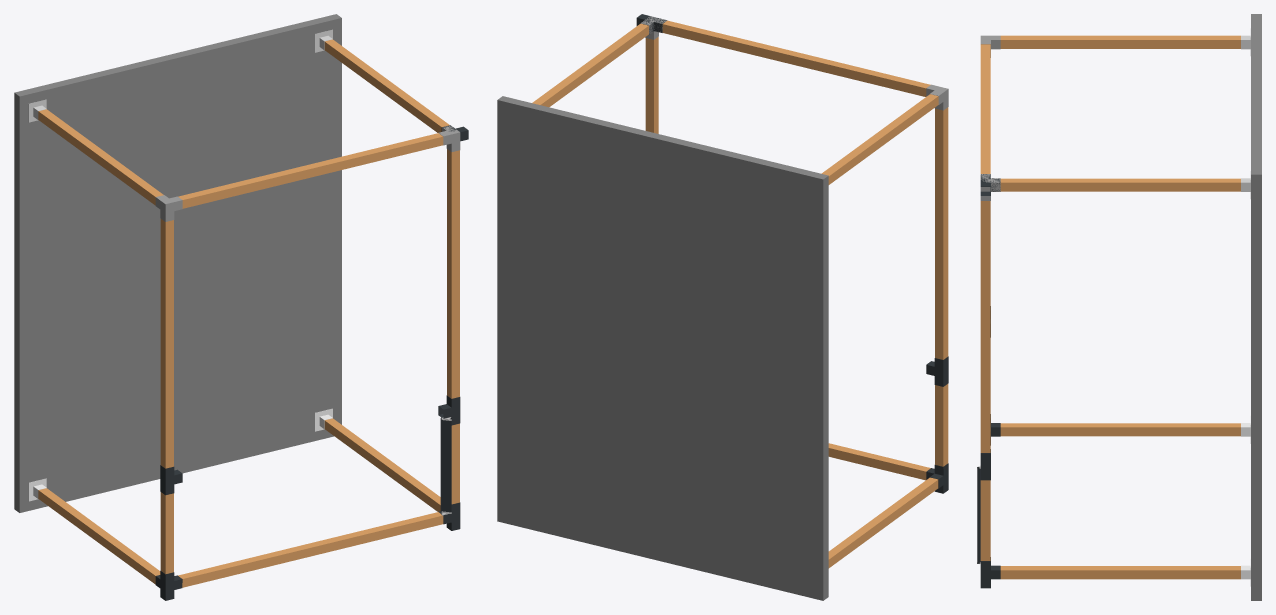
File: pergola_90_mm_v10a.gltf
3 views of the same model, side by side, from view 1: azimuth 30°, elevation 25°; view 2: azimuth 150°, elevation 25°; view 3: azimuth 270°, elevation 25° (orthographic). The views are drawn at different scales.
Visible parts, largest first — view 1: Dalle, PoutreAv, PoutreAr, ChevronD, ChevronG, PoteauAvD, PoteauAvG, PoteauArD, PoteauArG, Lame; view 2: Dalle, PoutreAv, ChevronD, PoteauAvD, PoteauAvG, PoteauArD, ChevronG, PoutreAr; view 3: Dalle, PoutreAr, PoteauArG, PoteauArD, PoteauAvD, PoteauAvG, ChevronD, Lame.
Part boxes in pixels (x1=…): Dalle: x1=14, y1=14, x2=341, y2=512; PoutreAv: x1=160, y1=219, x2=173, y2=574; PoutreAr: x1=447, y1=149, x2=459, y2=504; ChevronD: x1=178, y1=133, x2=443, y2=208; ChevronG: x1=178, y1=512, x2=443, y2=587; PoteauAvD: x1=38, y1=109, x2=163, y2=205; PoteauAvG: x1=38, y1=488, x2=160, y2=584; PoteauArD: x1=324, y1=39, x2=449, y2=132; PoteauArG: x1=324, y1=418, x2=440, y2=511; Lame: x1=440, y1=417, x2=451, y2=512; Dalle: x1=497, y1=96, x2=828, y2=600; PoutreAv: x1=935, y1=107, x2=948, y2=466; ChevronD: x1=662, y1=20, x2=930, y2=96; PoteauAvD: x1=821, y1=94, x2=938, y2=184; PoteauAvG: x1=828, y1=477, x2=938, y2=568; PoteauArD: x1=532, y1=23, x2=648, y2=107; ChevronG: x1=828, y1=443, x2=930, y2=480; PoutreAr: x1=645, y1=37, x2=658, y2=133; Dalle: x1=1251, y1=14, x2=1261, y2=600; PoutreAr: x1=980, y1=201, x2=990, y2=560; PoteauArG: x1=1000, y1=566, x2=1240, y2=579; PoteauArD: x1=1000, y1=178, x2=1240, y2=191; PoteauAvD: x1=1000, y1=35, x2=1240, y2=48; PoteauAvG: x1=1000, y1=423, x2=1240, y2=436; ChevronD: x1=980, y1=44, x2=990, y2=173; Lame: x1=977, y1=467, x2=980, y2=563.
Bounding box in the file's own units: 3.48 × 4.3 × 2.6.
